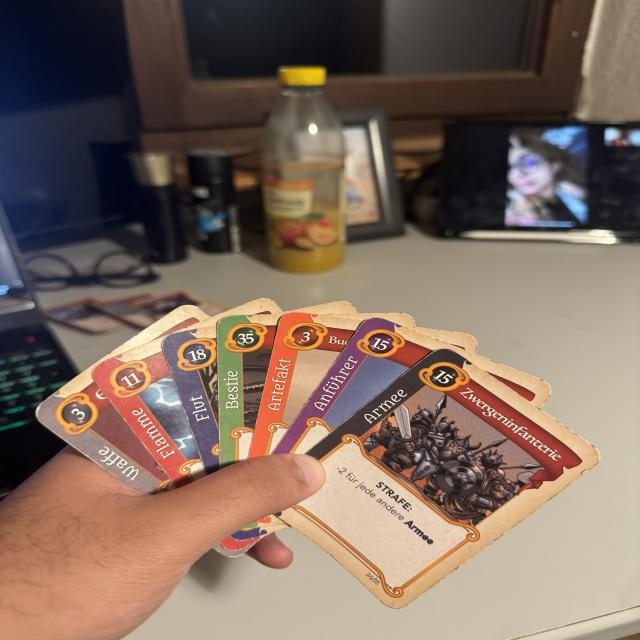Basilisk: (220, 314, 281, 471)
Book Of Changes: (250, 312, 361, 459)
Dwarvish Infantry: (273, 344, 609, 613)
Elven Longbow: (36, 368, 175, 495)
Empress: (272, 313, 444, 455)
Lightning: (92, 338, 205, 489)
Swamp: (162, 325, 220, 476)
